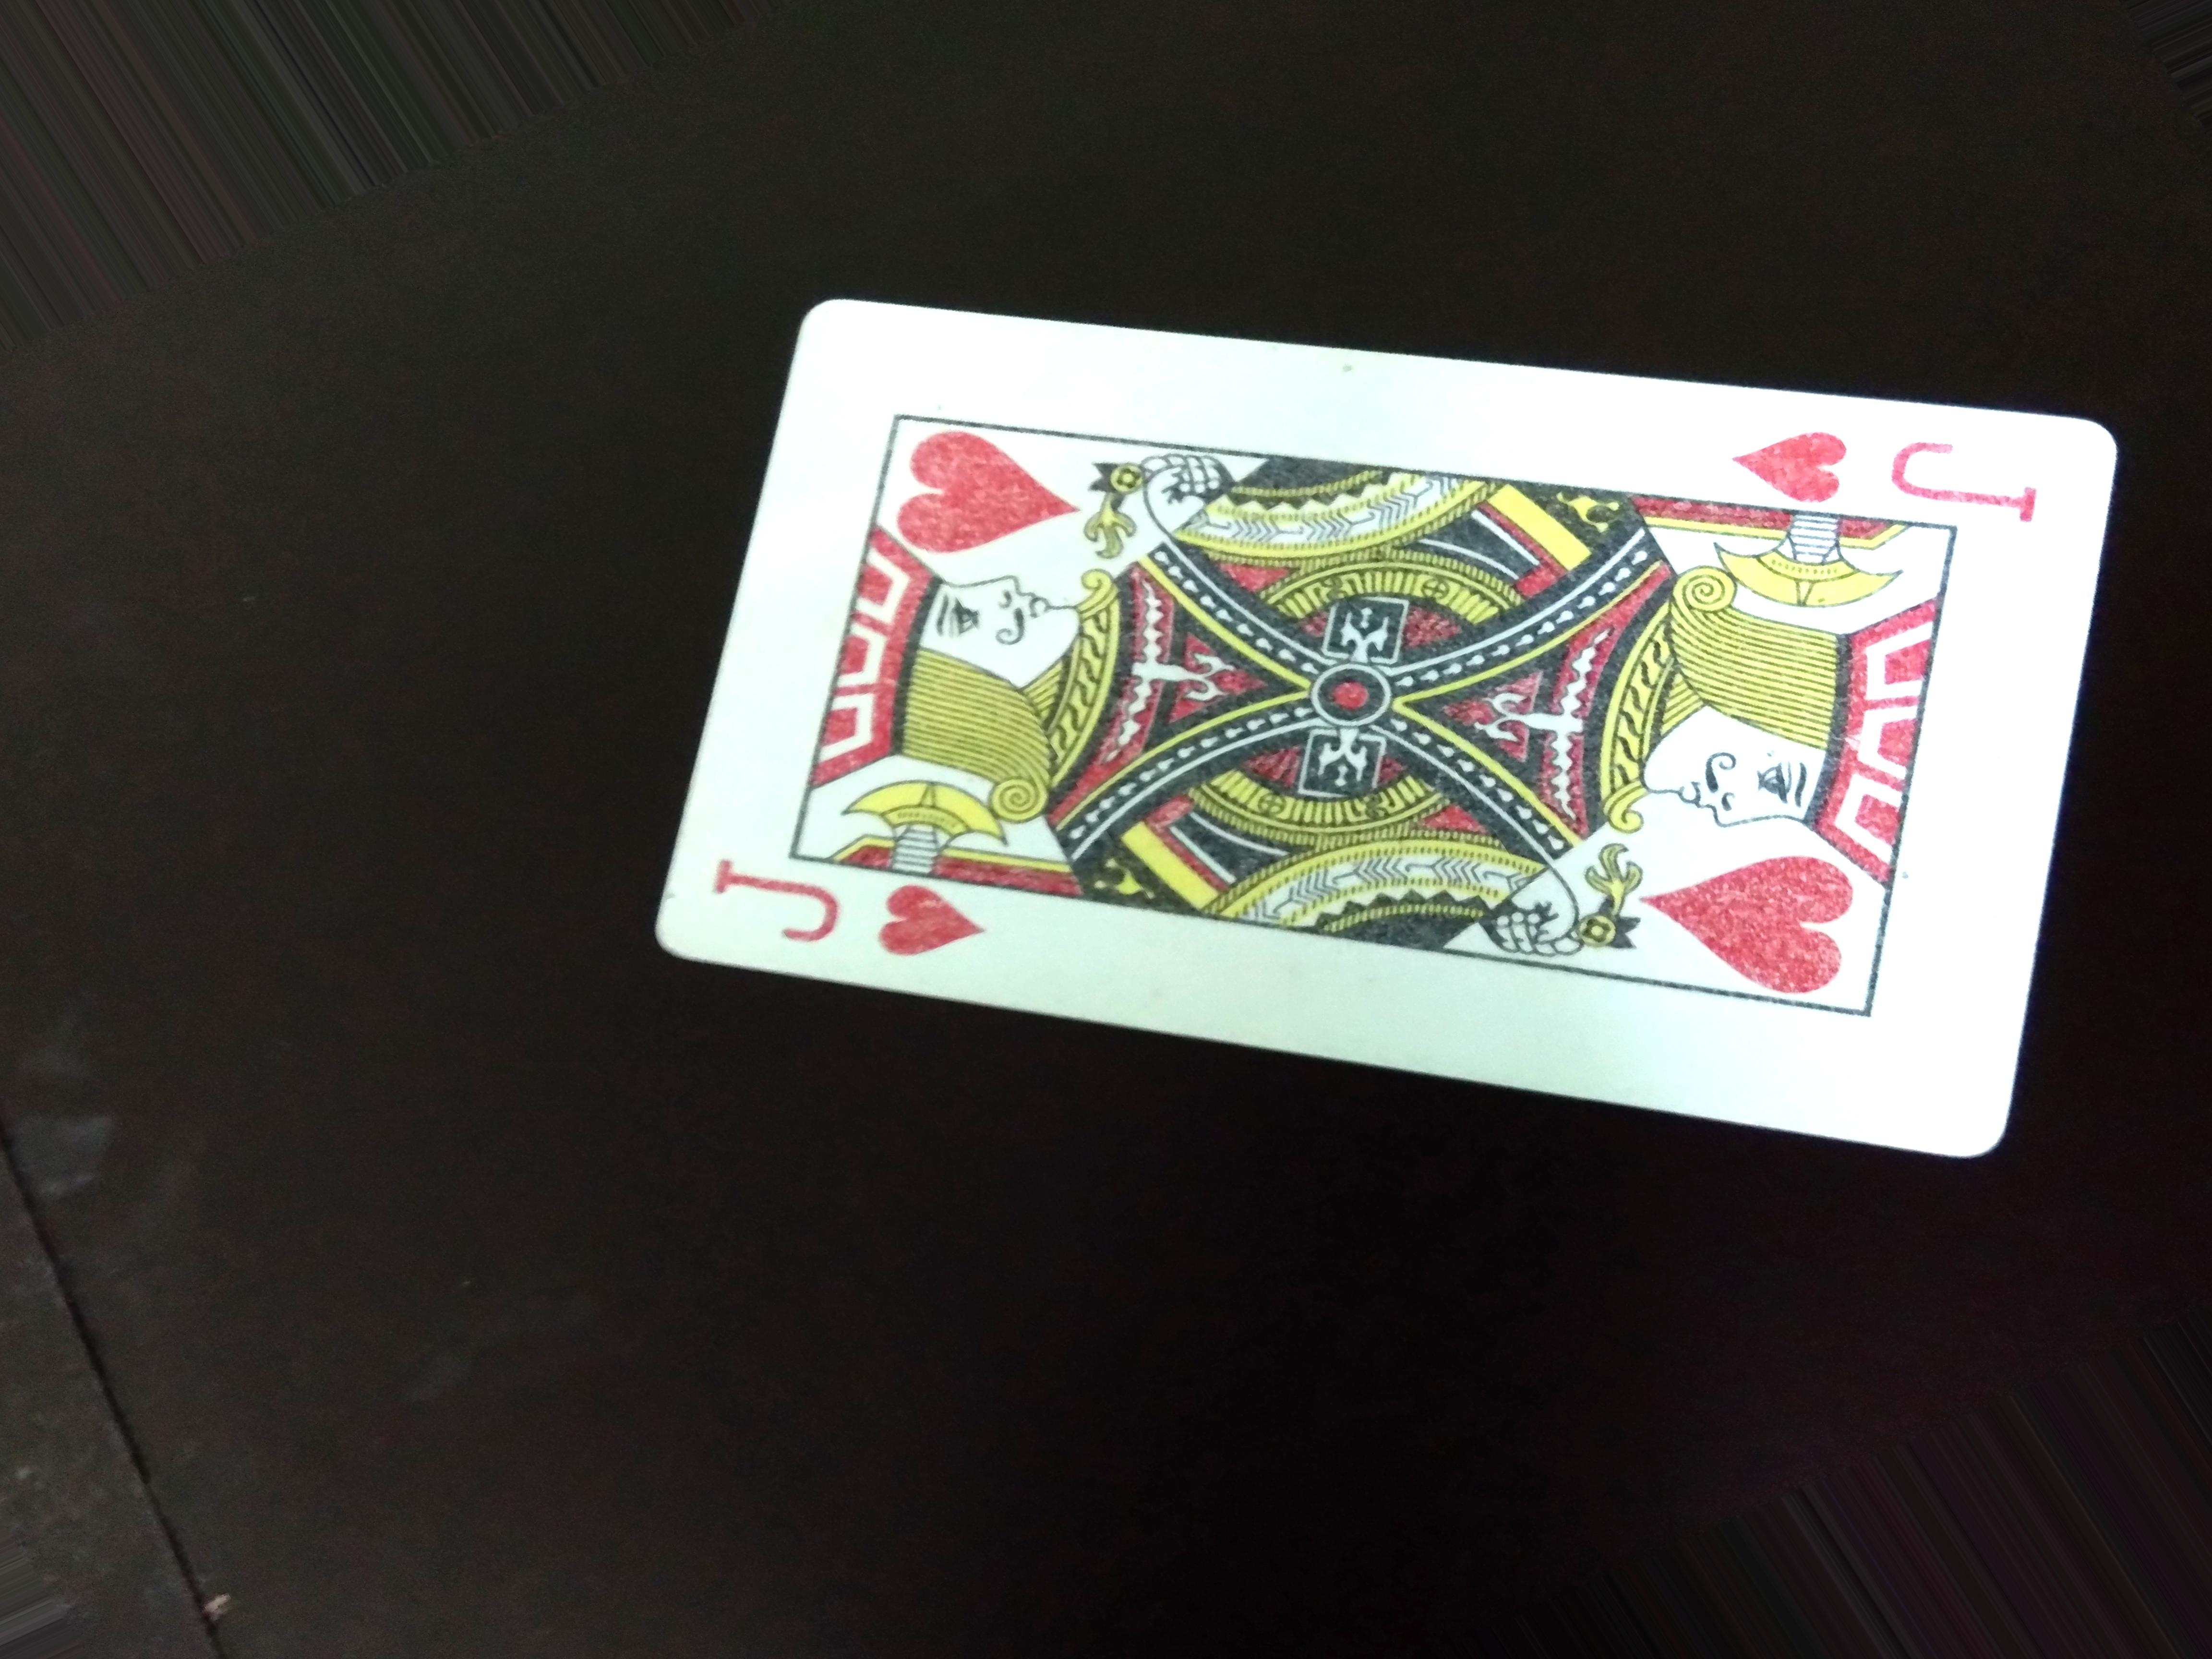JH: (686, 850, 989, 988)
